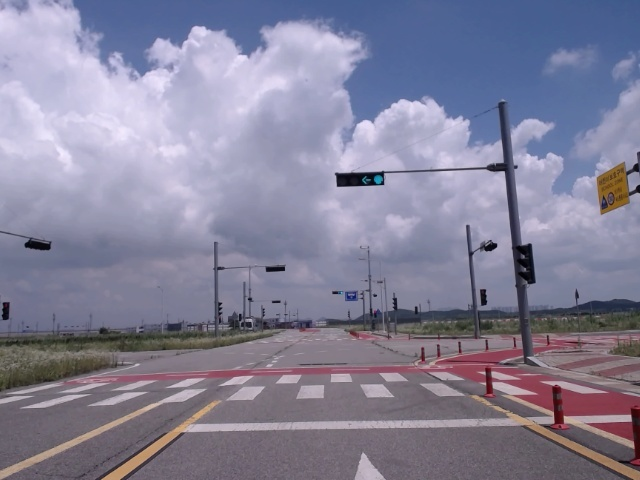all_green_4: (337, 173, 386, 185), (337, 175, 378, 186)
